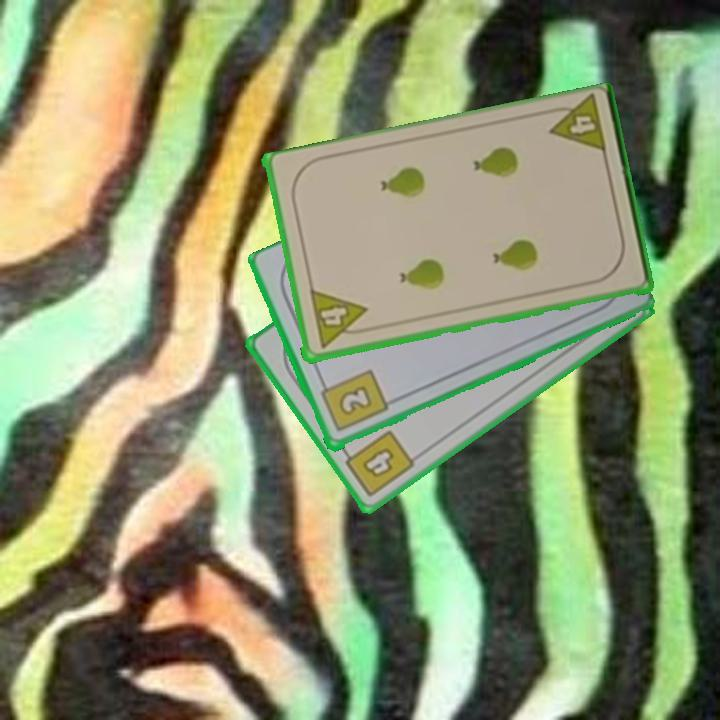2b: (316, 366, 391, 435)
4b: (337, 426, 418, 500)
4p: (541, 94, 609, 159), (306, 287, 372, 352)
